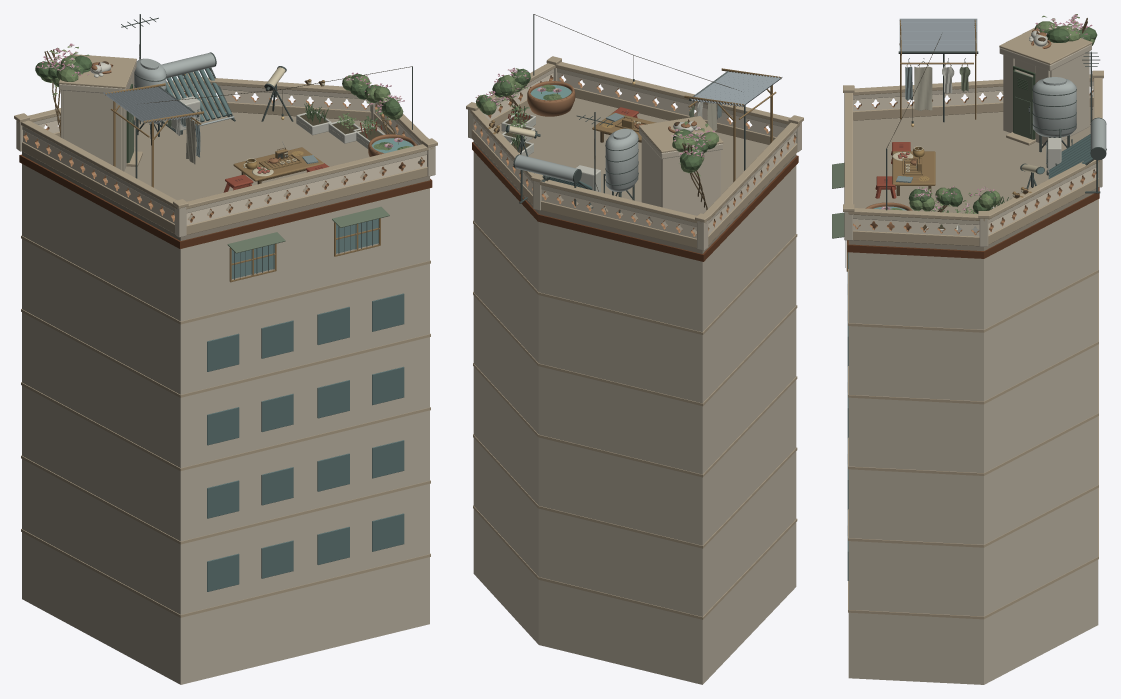
File: rooftop.glb
The picture shows the model from 3 angles, left to right: view 1: azimuth 30°, elevation 25°; view 2: azimuth 150°, elevation 25°; view 3: azimuth 270°, elevation 25°; orthographic projection. The views are drawn at different scales.
Visible parts, largest first — view 1: RooftopRoot__RT_ExportPalette_0.720_0.000, FrontParapet__RT_ExportPalette_0.720_0.000, Stairwell__RT_ExportPalette_0.720_0.000, RooftopRoot__RT_plaster, FrontParapet__RT_plaster, RooftopRoot__RT_roomPane, CorrugatedCanopy, SolarWaterHeater__RT_ExportPalette_0.720_0.000, Garden__RT_ExportPalette_0.720_0.000, Bougainvillea_Stair__RT_ExportPalette_0.720_0.000, Bougainvillea_Right__RT_ExportPalette_0.720_0.000, TeaTableFrameOutline__RT_ExportPalette_0.720_0.000 (+2 smaller); view 2: RooftopRoot__RT_ExportPalette_0.720_0.000, Stairwell__RT_ExportPalette_0.720_0.000, FrontParapet__RT_ExportPalette_0.720_0.000, RooftopRoot__RT_plaster, FrontParapet__RT_plaster, WaterTank__RT_ExportPalette_0.280_0.600, CorrugatedCanopy, Bougainvillea_Stair__RT_ExportPalette_0.720_0.000, Bougainvillea_Right__RT_ExportPalette_0.720_0.000, LotusCrock__RT_ExportPalette_0.720_0.000, Garden__RT_ExportPalette_0.720_0.000, SolarWaterHeater__RT_ExportPalette_0.280_0.600; view 3: RooftopRoot__RT_ExportPalette_0.720_0.000, Stairwell__RT_ExportPalette_0.720_0.000, RooftopRoot__RT_plaster, CorrugatedCanopy, WaterTank__RT_ExportPalette_0.280_0.600, Bougainvillea_Right__RT_ExportPalette_0.720_0.000, FrontParapet__RT_ExportPalette_0.720_0.000, Door_Hinge__RT_ExportPalette_0.720_0.000, SolarWaterHeater__RT_ExportPalette_0.720_0.000, Bougainvillea_Stair__RT_ExportPalette_0.720_0.000, TeaTableFrameOutline__RT_ExportPalette_0.720_0.000, PaleSheet_WindPivot__RT_ExportPalette_0.720_0.000 (+4 smaller).
Part boxes in pixels (<box>): RooftopRoot__RT_ExportPalette_0.720_0.000: <box>14,66,432,684</box>; FrontParapet__RT_ExportPalette_0.720_0.000: <box>173,138,437,237</box>; Stairwell__RT_ExportPalette_0.720_0.000: <box>59,54,142,171</box>; RooftopRoot__RT_plaster: <box>23,88,422,223</box>; FrontParapet__RT_plaster: <box>186,155,426,224</box>; RooftopRoot__RT_roomPane: <box>231,218,378,278</box>; CorrugatedCanopy: <box>103,86,196,123</box>; SolarWaterHeater__RT_ExportPalette_0.720_0.000: <box>162,52,235,132</box>; Garden__RT_ExportPalette_0.720_0.000: <box>296,103,384,148</box>; Bougainvillea_Stair__RT_ExportPalette_0.720_0.000: <box>35,43,92,136</box>; Bougainvillea_Right__RT_ExportPalette_0.720_0.000: <box>342,72,404,134</box>; TeaTableFrameOutline__RT_ExportPalette_0.720_0.000: <box>233,147,323,184</box>; RooftopRoot__RT_ExportPalette_0.720_0.000: <box>466,14,800,684</box>; Stairwell__RT_ExportPalette_0.720_0.000: <box>638,116,723,230</box>; FrontParapet__RT_ExportPalette_0.720_0.000: <box>546,56,803,152</box>; RooftopRoot__RT_plaster: <box>473,72,796,238</box>; FrontParapet__RT_plaster: <box>557,72,784,137</box>; WaterTank__RT_ExportPalette_0.280_0.600: <box>605,128,638,191</box>; CorrugatedCanopy: <box>691,71,782,106</box>; Bougainvillea_Stair__RT_ExportPalette_0.720_0.000: <box>671,121,718,209</box>; Bougainvillea_Right__RT_ExportPalette_0.720_0.000: <box>475,67,530,115</box>; LotusCrock__RT_ExportPalette_0.720_0.000: <box>527,81,575,116</box>; Garden__RT_ExportPalette_0.720_0.000: <box>501,104,535,156</box>; SolarWaterHeater__RT_ExportPalette_0.280_0.600: <box>514,155,577,182</box>; RooftopRoot__RT_ExportPalette_0.720_0.000: <box>832,19,1103,684</box>; Stairwell__RT_ExportPalette_0.720_0.000: <box>999,27,1092,145</box>; RooftopRoot__RT_plaster: <box>853,85,1096,236</box>; CorrugatedCanopy: <box>899,18,977,51</box>; WaterTank__RT_ExportPalette_0.280_0.600: <box>1033,77,1076,137</box>; Bougainvillea_Right__RT_ExportPalette_0.720_0.000: <box>908,186,1000,230</box>; FrontParapet__RT_ExportPalette_0.720_0.000: <box>843,85,854,240</box>; Door_Hinge__RT_ExportPalette_0.720_0.000: <box>1013,70,1033,139</box>; SolarWaterHeater__RT_ExportPalette_0.720_0.000: <box>1048,117,1106,193</box>; Bougainvillea_Stair__RT_ExportPalette_0.720_0.000: <box>1034,14,1097,45</box>; TeaTableFrameOutline__RT_ExportPalette_0.720_0.000: <box>892,151,935,195</box>; PaleSheet_WindPivot__RT_ExportPalette_0.720_0.000: <box>914,58,932,110</box>.
Bounding box in the file's own units: 9.78 × 17.17 × 7.82.
